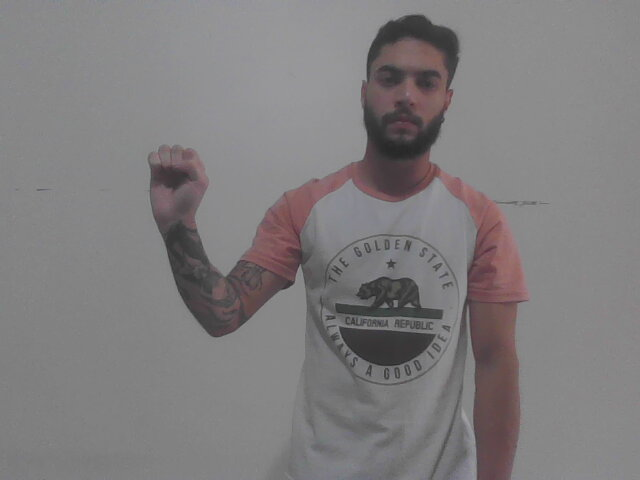s: (143, 142, 212, 226)
